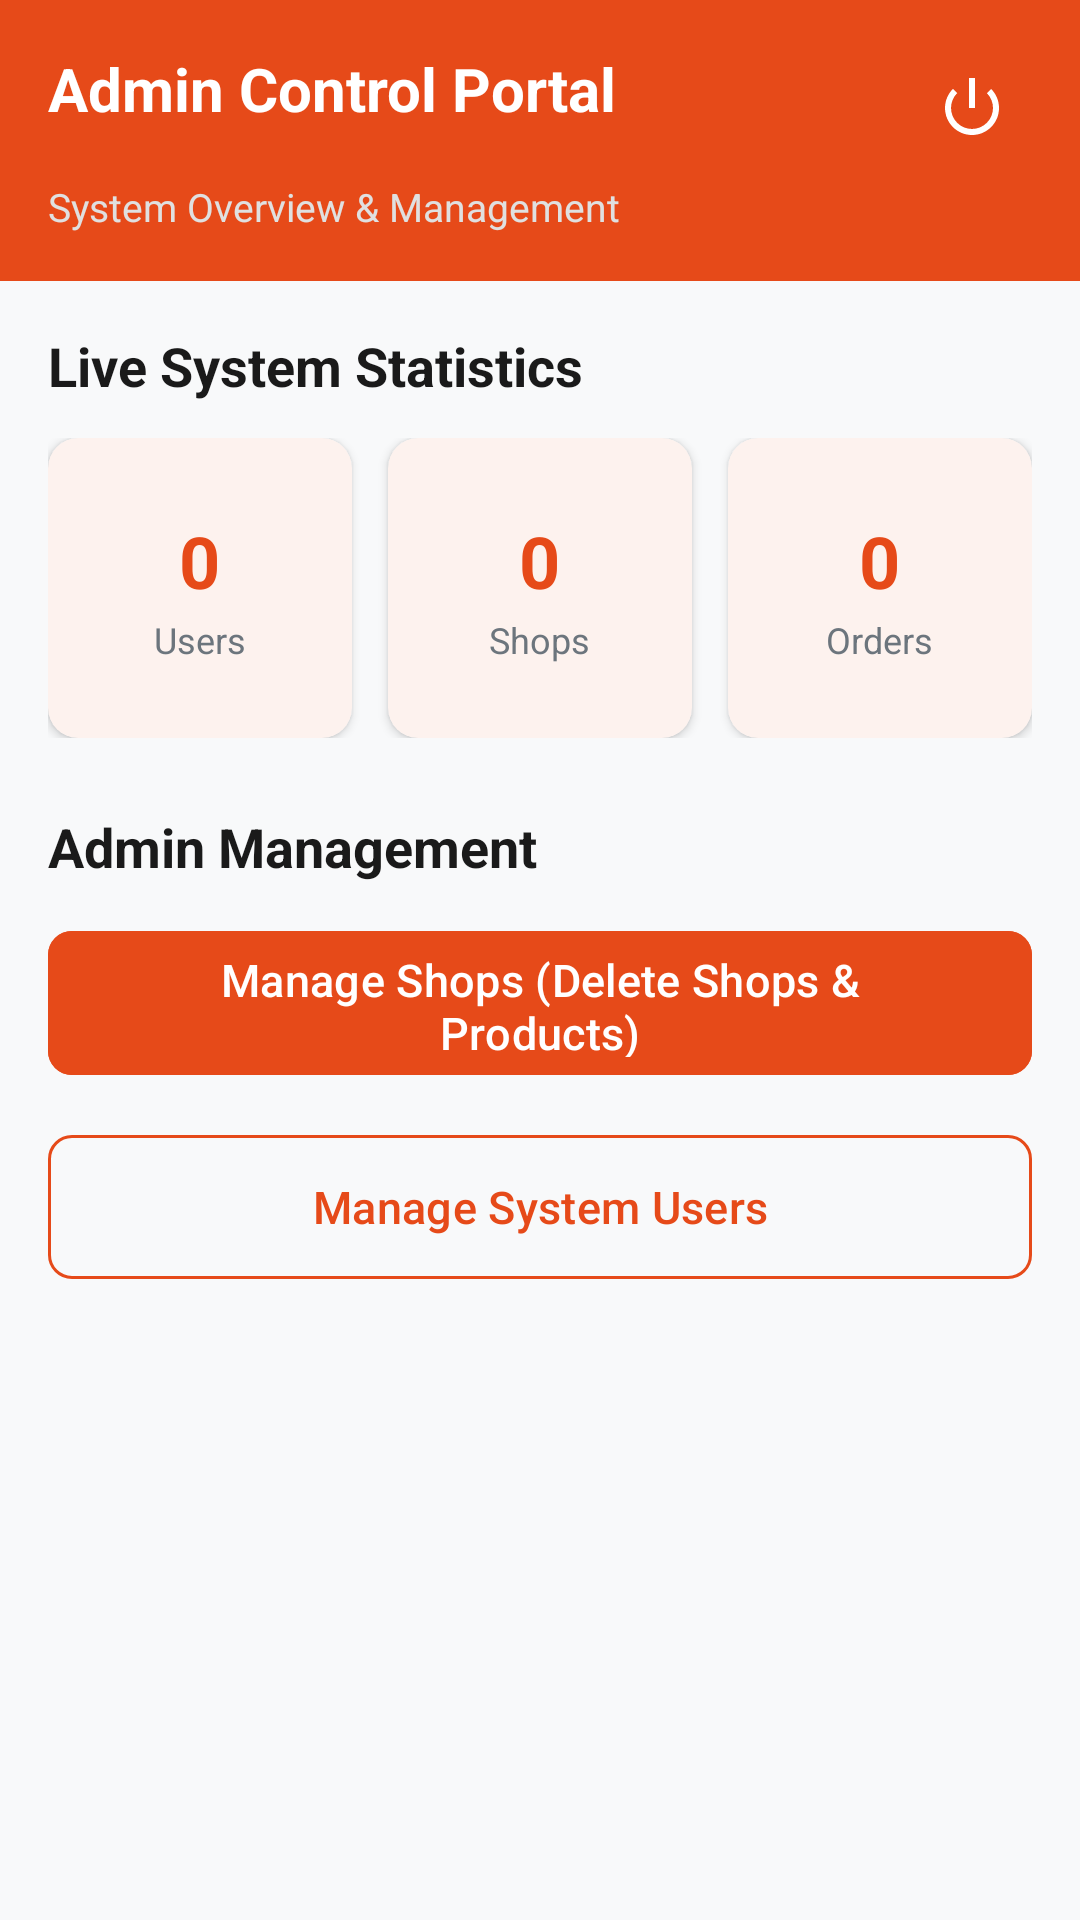

Locate icon controls on the screen. Image size 1080 x 1920, boxes as (x1, y1, x2, y2).
lock power off: (945, 78, 999, 135)
